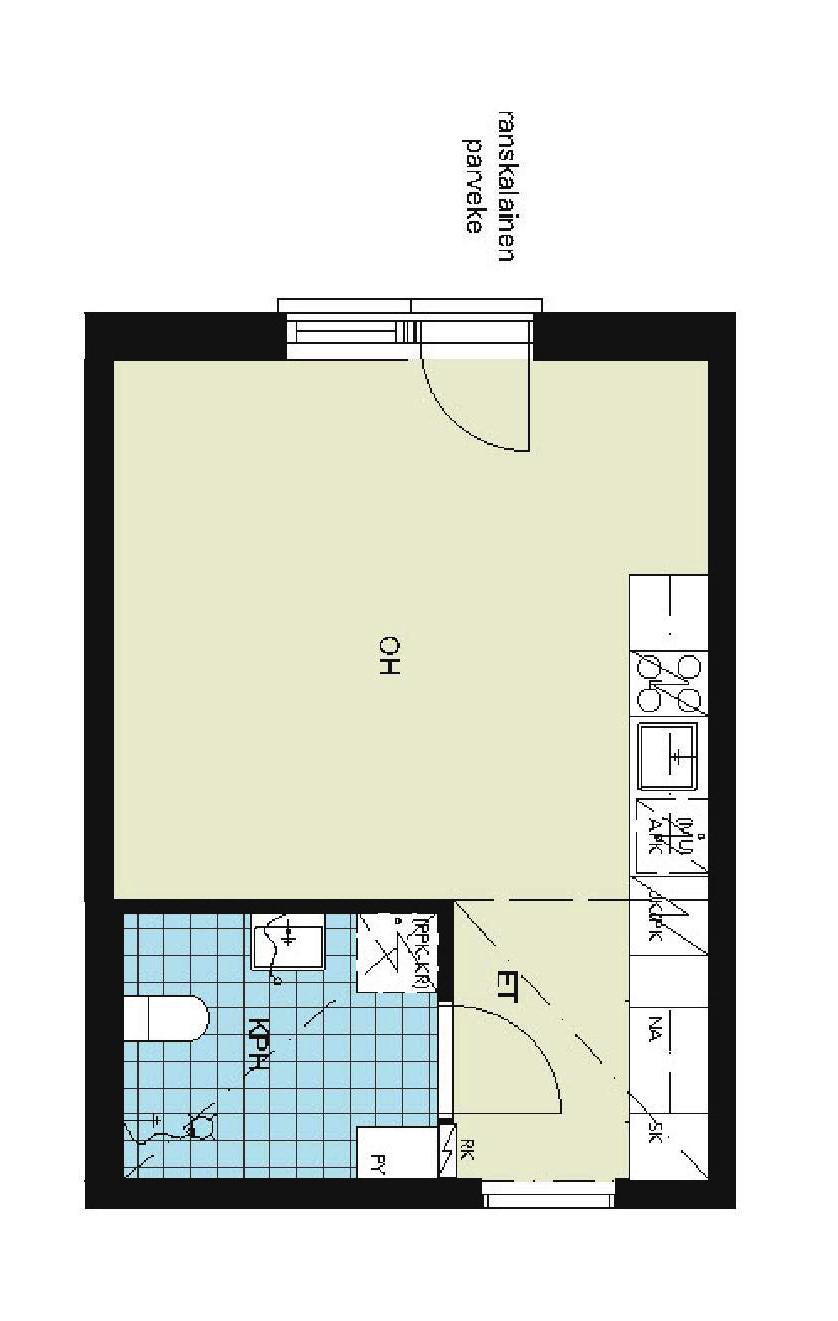bathroom: (121, 912, 438, 1175)
door: (410, 312, 538, 463), (437, 998, 570, 1124)
perimeter: (84, 310, 736, 1210)
window: (259, 298, 423, 373), (470, 1167, 630, 1213)
